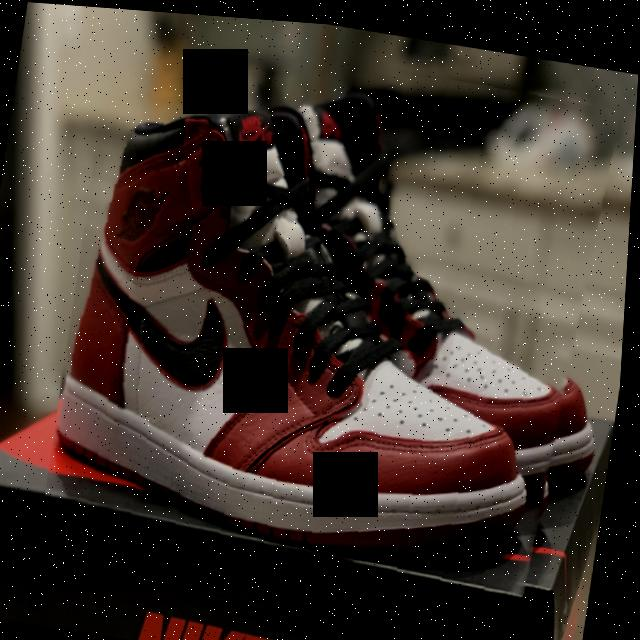shoe: (44, 13, 625, 597)
